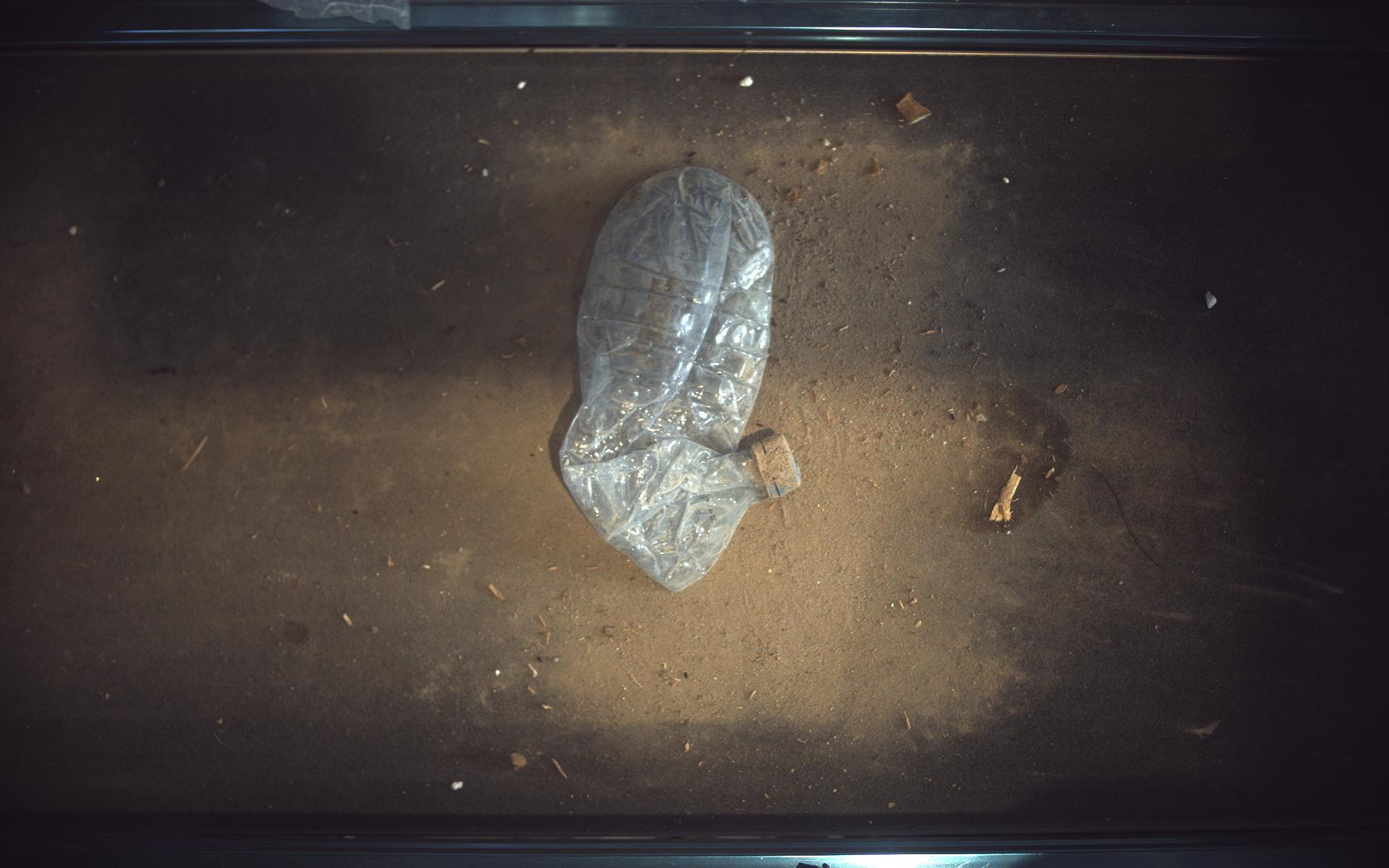general_w: (561, 166, 802, 592)
